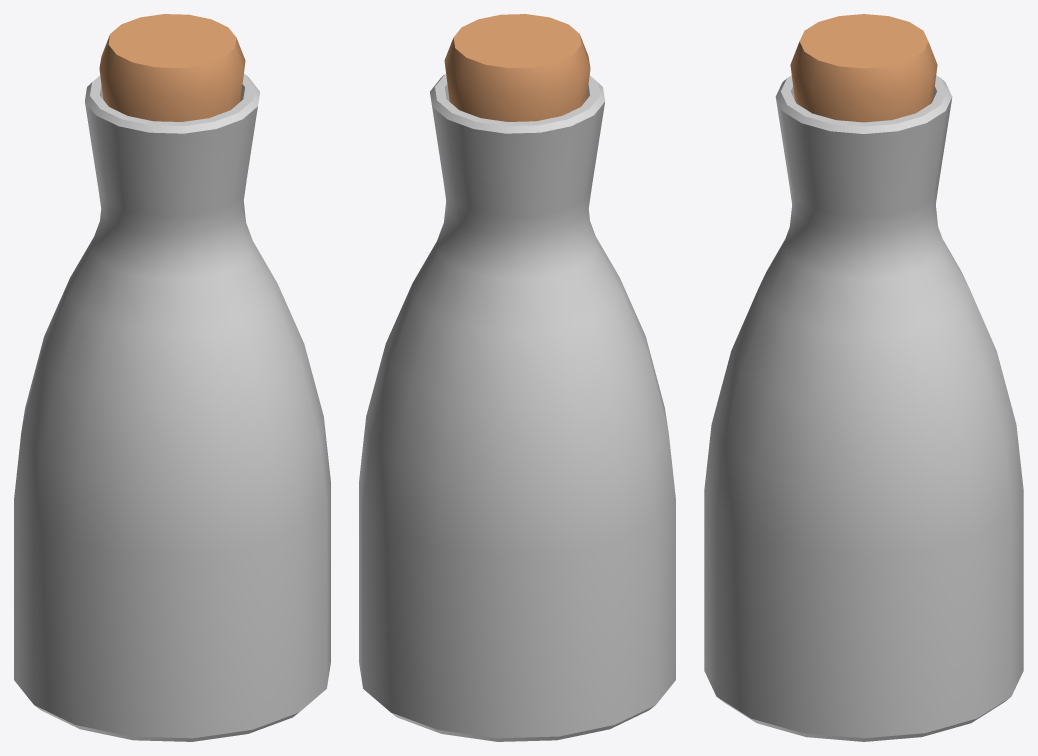
Rendered from drinkjar.fbx.
3 views of the same model, side by side, from view 1: azimuth 30°, elevation 25°; view 2: azimuth 150°, elevation 25°; view 3: azimuth 270°, elevation 25° (orthographic).
Parts seen in each view (by area): view 1: Circle.009; view 2: Circle.009; view 3: Circle.009.
Boxes of the visible parts, x1,y1,x2,y2 form: Circle.009: (14, 14, 330, 741); Circle.009: (359, 14, 675, 741); Circle.009: (704, 14, 1023, 741).
Size of the model in its own units: 0.1782 by 0.392 by 0.1782.
